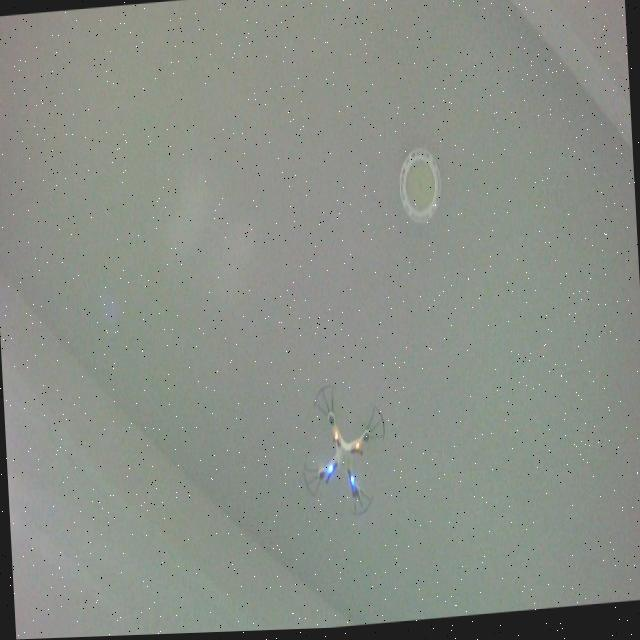drone: (295, 378, 392, 527)
